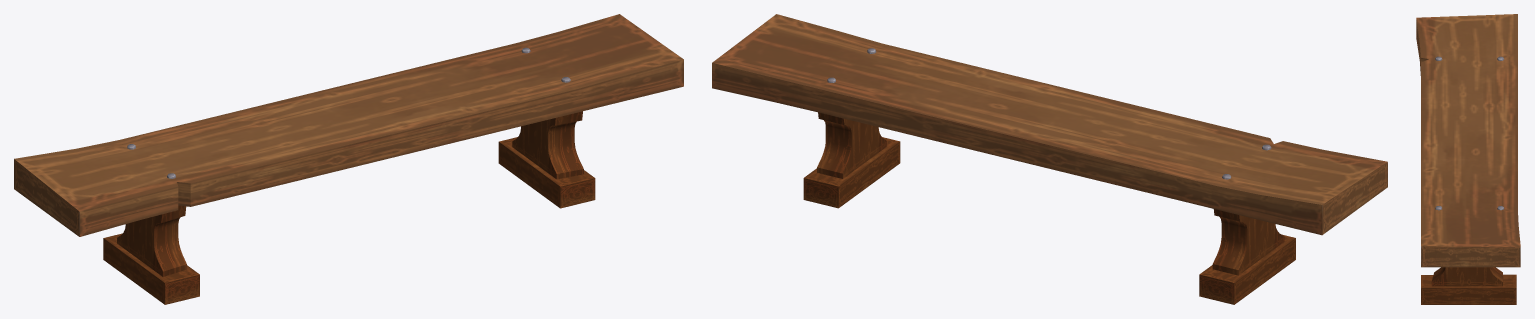
Rendered from Bench.gltf.
3 renders of one model, left to right at view 1: azimuth 30°, elevation 25°; view 2: azimuth 150°, elevation 25°; view 3: azimuth 270°, elevation 25°, orthographic. The views are drawn at different scales.
Parts seen in each view (by area): view 1: Bench; view 2: Bench; view 3: Bench.
Boxes of the visible parts, box(x1,y1,x2,y2) form: Bench: box(14, 14, 683, 304); Bench: box(712, 14, 1387, 304); Bench: box(1416, 14, 1520, 304).
Bounding box in the file's own units: 2.78 × 0.5332 × 0.5343.
2 materials, 2 textured.
